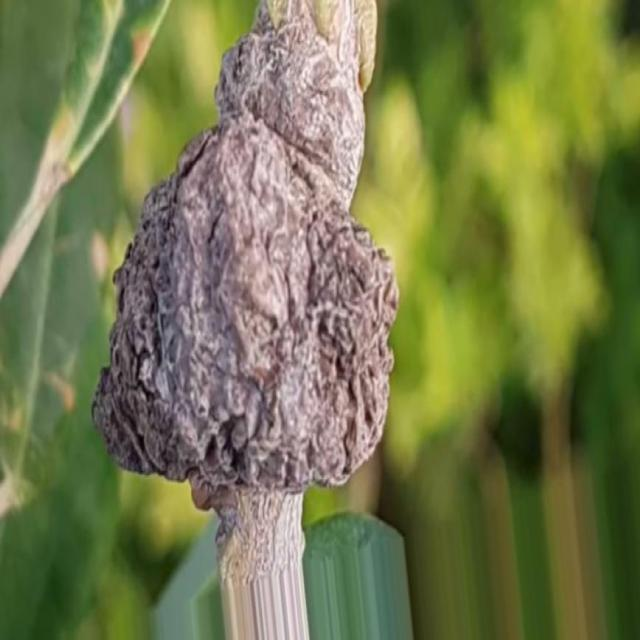Tuberculosis: (91, 16, 398, 536)
